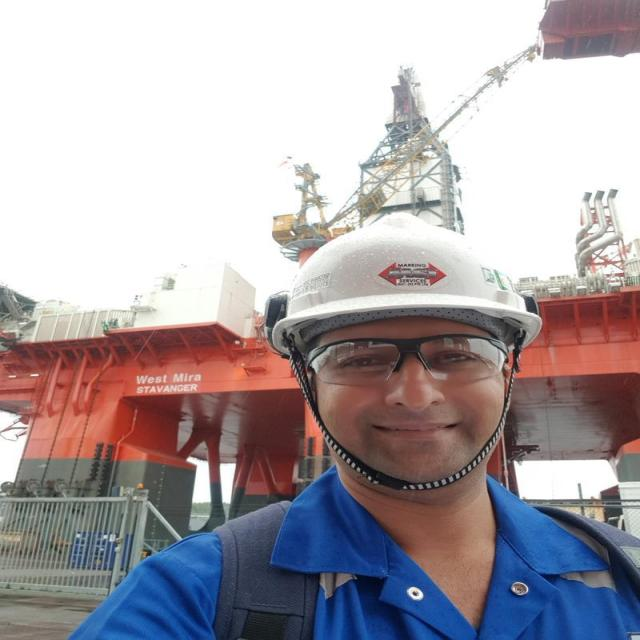helmet: (272, 214, 544, 353)
